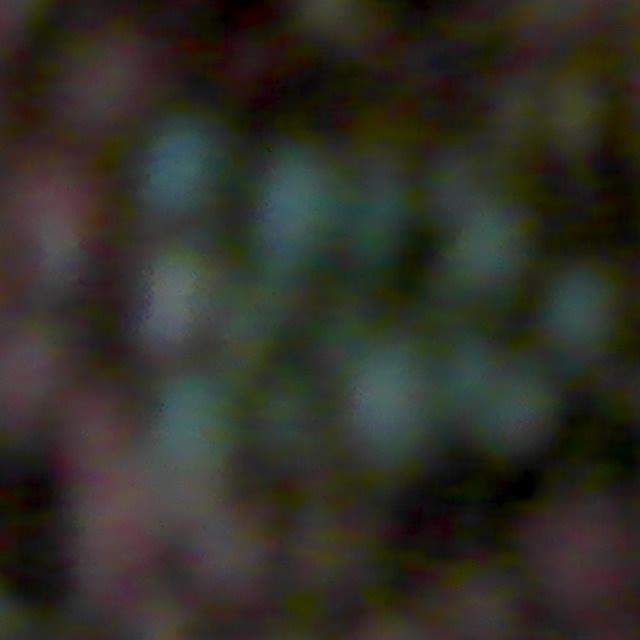SeaGrape: (44, 33, 168, 152), (58, 480, 172, 604), (544, 505, 640, 632), (10, 142, 105, 256), (250, 152, 347, 259), (149, 370, 242, 474), (342, 348, 433, 453), (137, 118, 226, 217), (444, 200, 530, 297), (135, 243, 221, 340), (539, 262, 624, 355), (474, 371, 560, 460), (0, 319, 76, 409)
